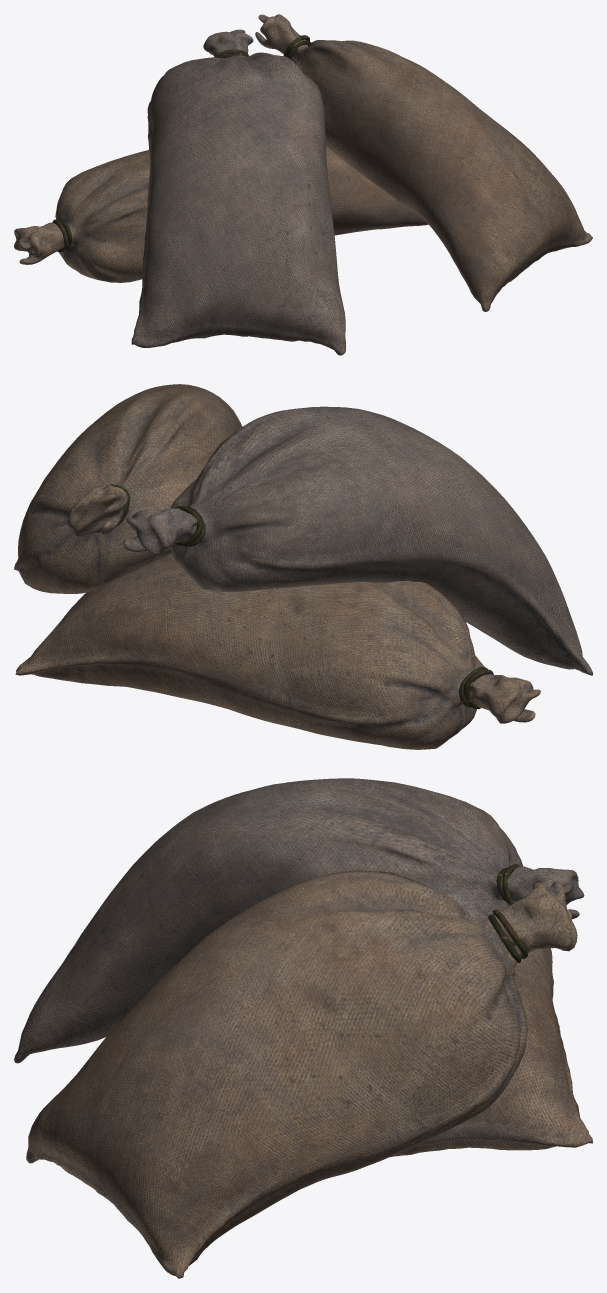
Rendered from SM_Bag_04.fbx.
3 renders of one model, top to bottom at view 1: azimuth 30°, elevation 25°; view 2: azimuth 150°, elevation 25°; view 3: azimuth 270°, elevation 25°, orthographic. The views are drawn at different scales.
Parts seen in each view (by area): view 1: SM_Bag_04_LOD0; view 2: SM_Bag_04_LOD0; view 3: SM_Bag_04_LOD0.
Boxes of the visible parts, left/top/right/bottom form: SM_Bag_04_LOD0: left=14, top=14, right=592, bottom=355; SM_Bag_04_LOD0: left=14, top=384, right=592, bottom=749; SM_Bag_04_LOD0: left=14, top=778, right=592, bottom=1278.
Bounding box in the file's own units: 208 × 147 × 80.22.
2 materials, 2 textured.
